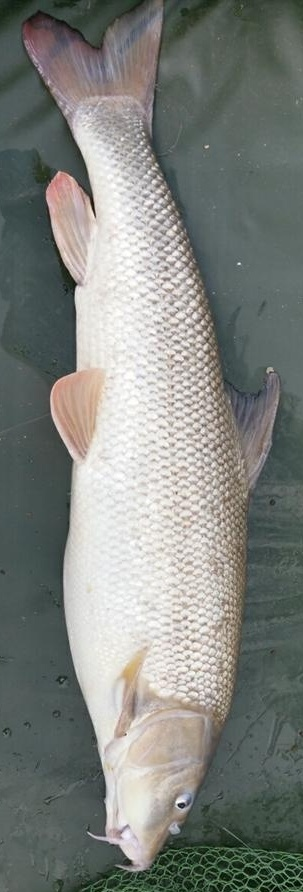Barbus barbus: (20, 1, 283, 872)
